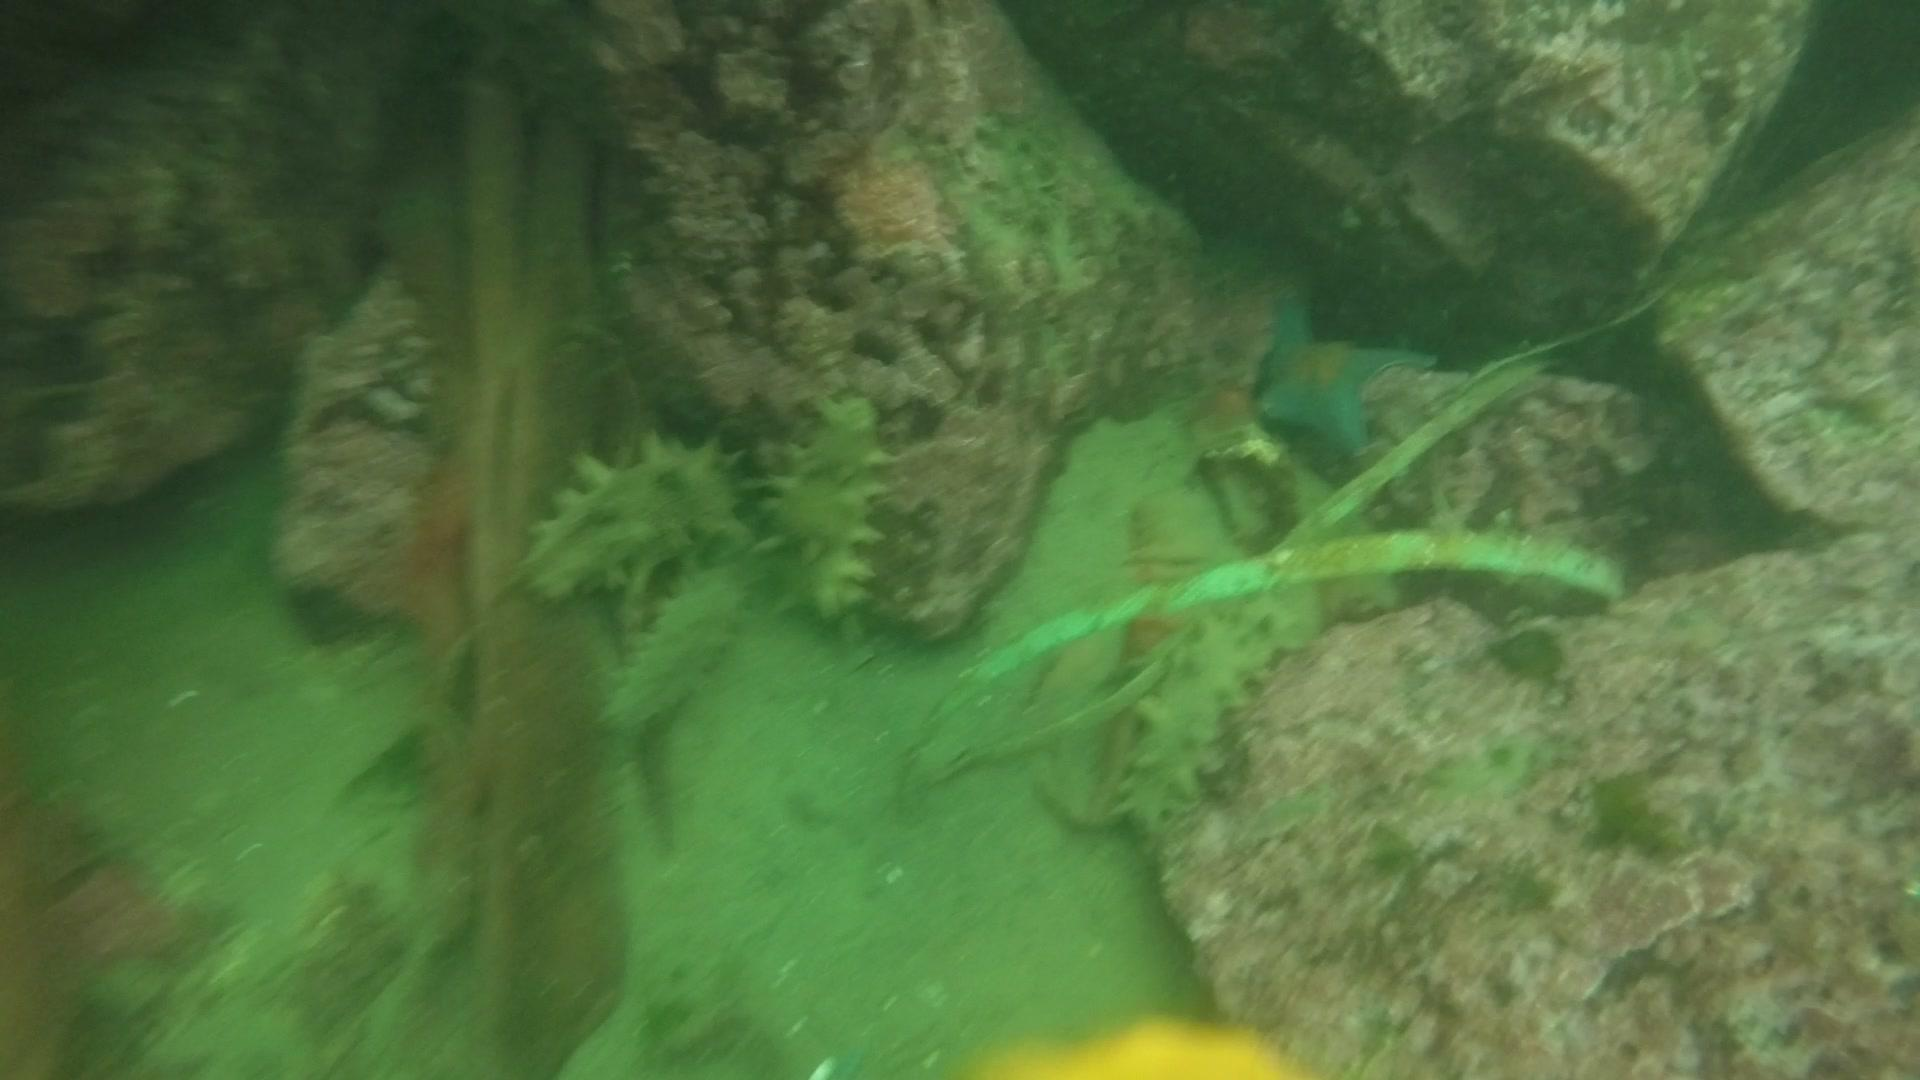holothurian: (506, 440, 756, 611), (1106, 604, 1280, 829), (765, 392, 895, 647), (587, 554, 762, 732), (458, 1, 622, 156)
starfish: (1261, 274, 1441, 465)
